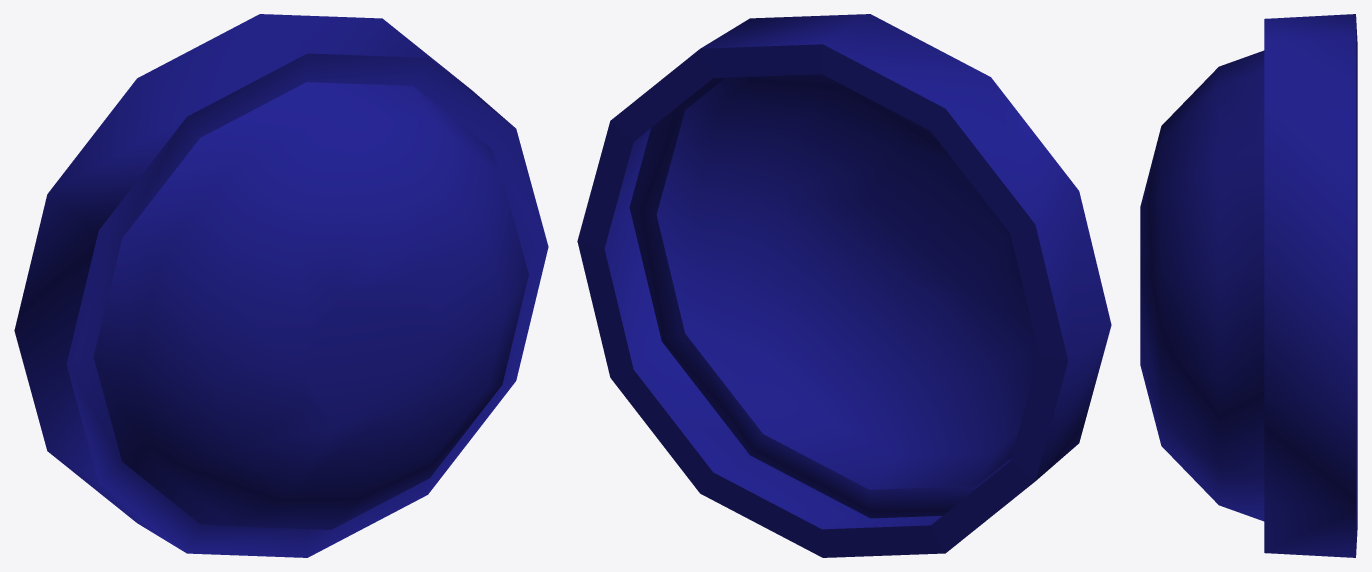
File: Big Red Bulb.fbx
3 views of the same model, side by side, from view 1: azimuth 30°, elevation 25°; view 2: azimuth 150°, elevation 25°; view 3: azimuth 270°, elevation 25° (orthographic). The views are drawn at different scales.
Visible parts, largest first — view 1: Big Red Bulb; view 2: Big Red Bulb; view 3: Big Red Bulb.
Boxes of the visible parts, left/top/right/bottom form: Big Red Bulb: left=14, top=14, right=548, bottom=557; Big Red Bulb: left=577, top=14, right=1111, bottom=557; Big Red Bulb: left=1140, top=14, right=1357, bottom=557.
Bounding box in the file's own units: 97.28 × 97.28 × 38.72.
